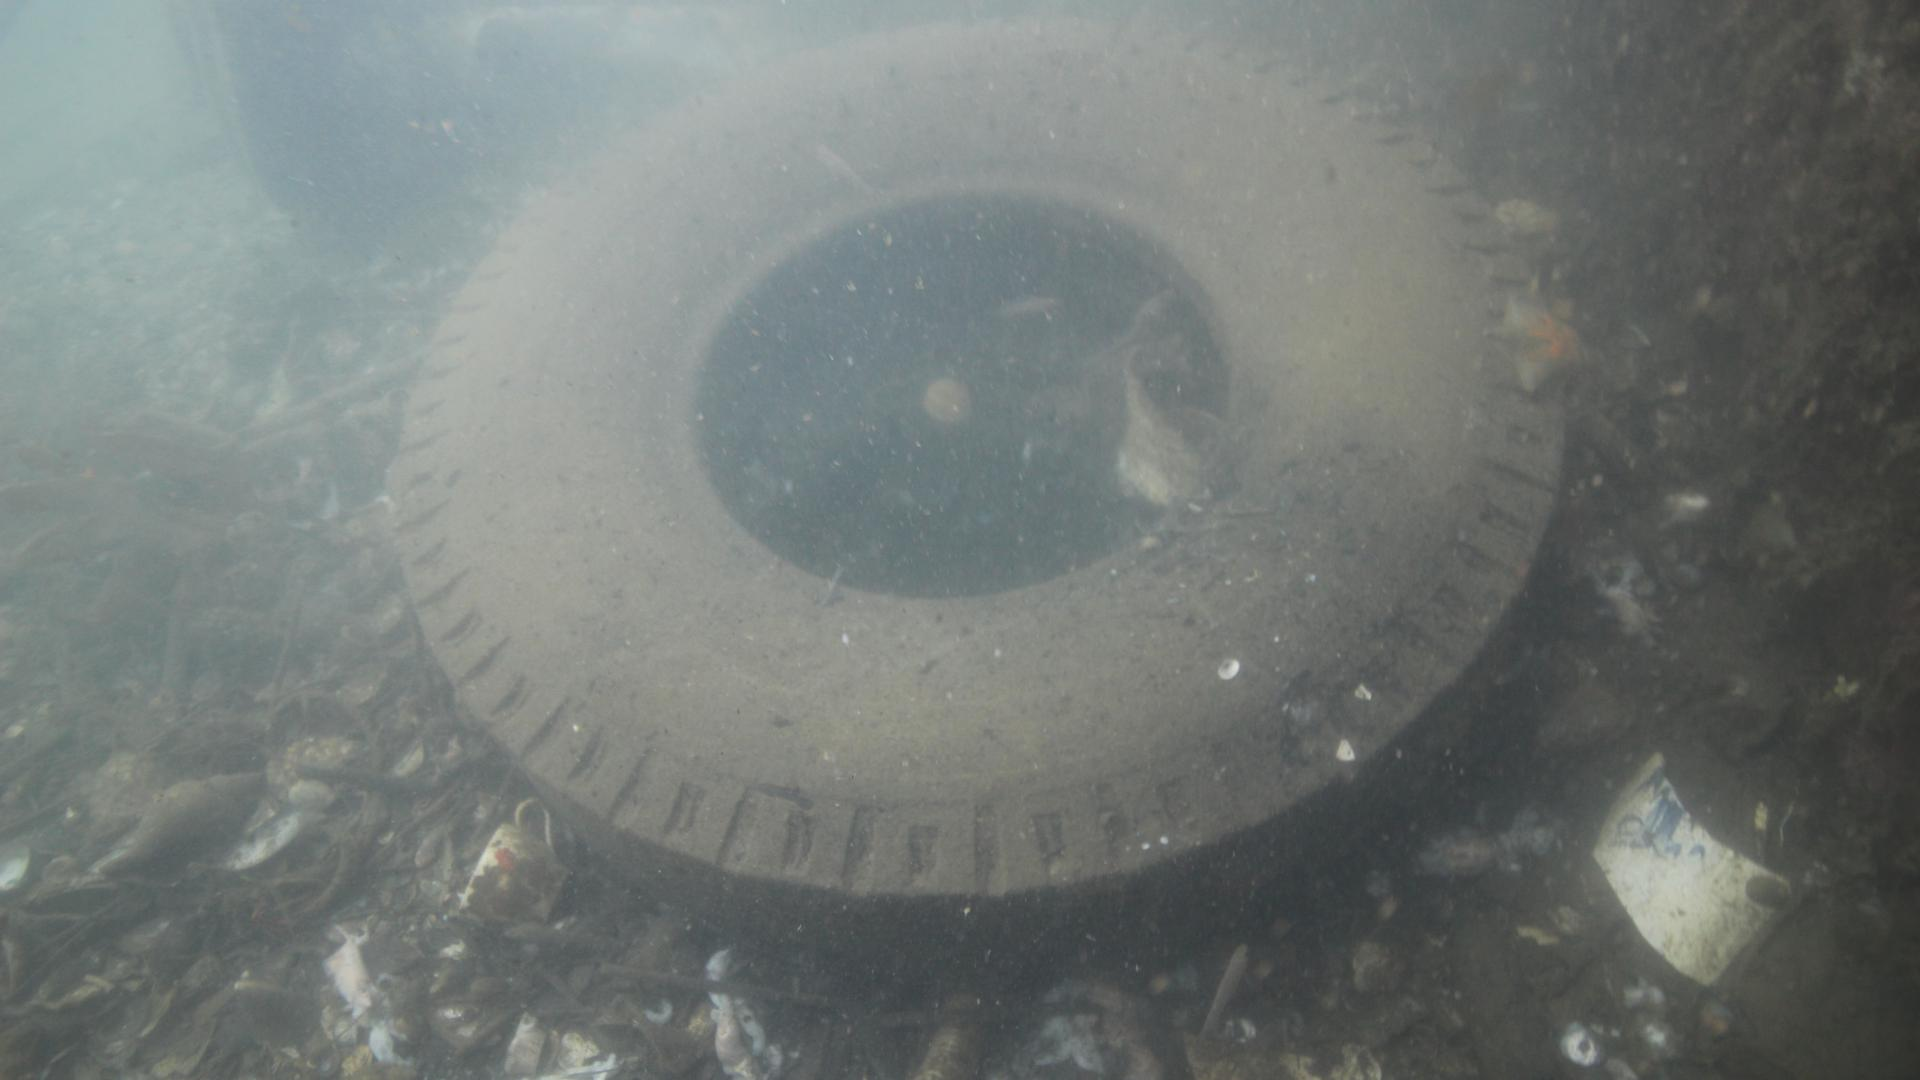tire: (384, 11, 1567, 994)
